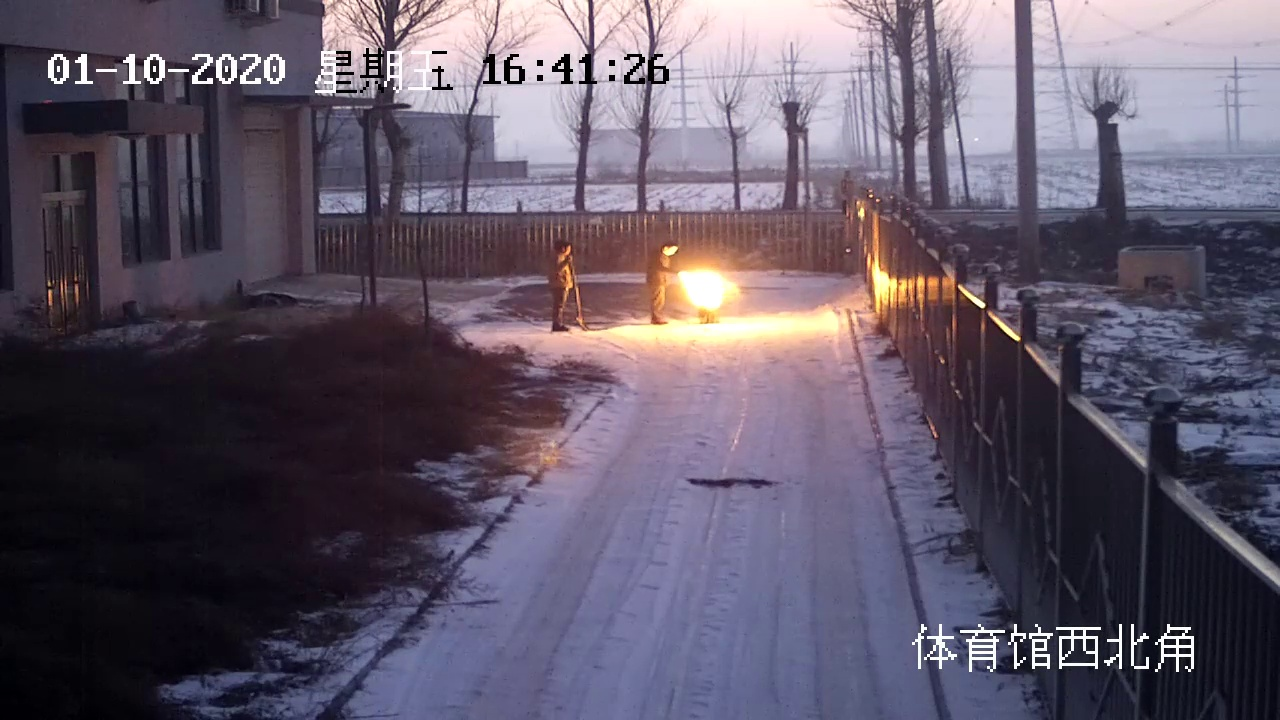fire: (676, 267, 748, 312)
